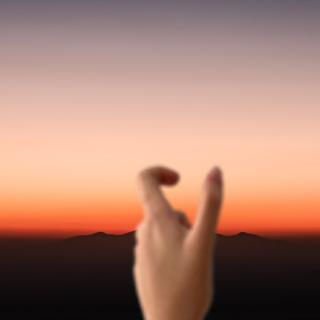Irritated: (120, 161, 231, 315)
